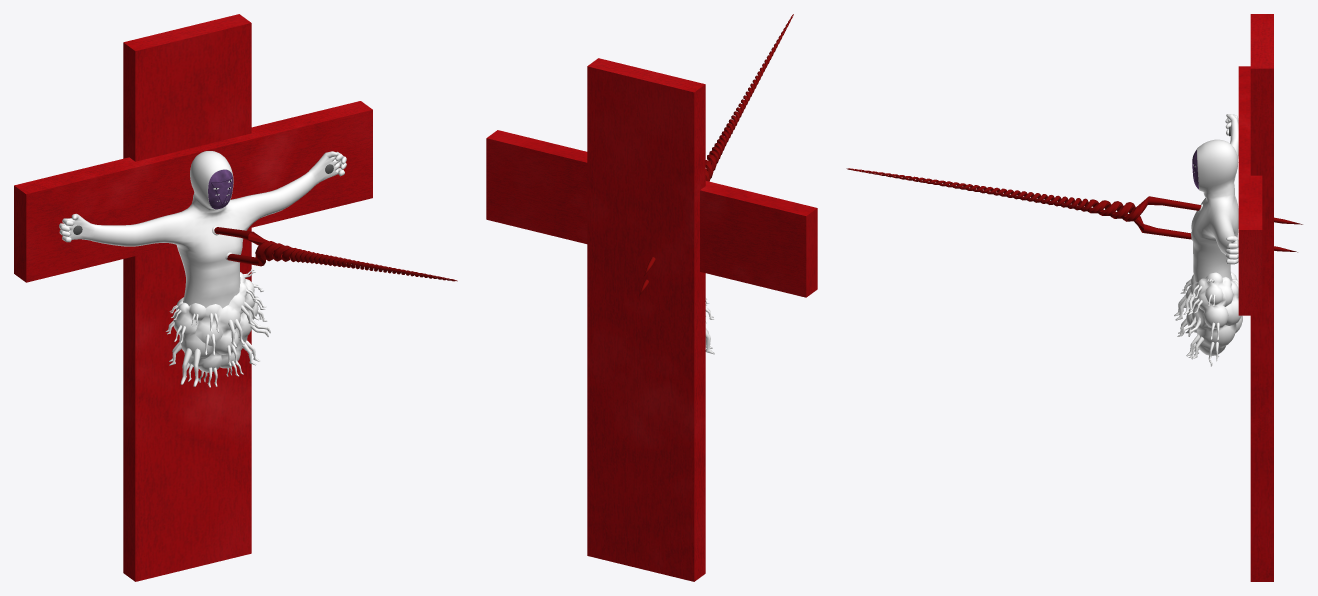
The model's file is lilithevangelion.glb.
The picture shows the model from 3 angles, left to right: view 1: azimuth 30°, elevation 25°; view 2: azimuth 150°, elevation 25°; view 3: azimuth 270°, elevation 25°; orthographic projection. The views are drawn at different scales.
Parts seen in each view (by area): view 1: p_cross_vertical, p_cross_horizontal, p_face1, p_waist, p_legs, p_spear_longinus; view 2: p_cross_vertical, p_cross_horizontal, p_spear_longinus; view 3: p_cross_vertical, p_face1, p_cross_horizontal, p_spear_longinus, p_waist, p_legs.
Part boxes in pixels (<box>): p_cross_vertical: <box>123,14,251,581</box>; p_cross_horizontal: <box>14,101,372,282</box>; p_face1: <box>59,151,346,308</box>; p_waist: <box>173,272,258,372</box>; p_legs: <box>165,269,270,387</box>; p_spear_longinus: <box>214,227,457,281</box>; p_cross_vertical: <box>587,58,705,581</box>; p_cross_horizontal: <box>486,130,817,297</box>; p_spear_longinus: <box>639,14,793,295</box>; p_cross_vertical: <box>1250,14,1273,581</box>; p_face1: <box>1191,114,1238,282</box>; p_cross_horizontal: <box>1238,66,1262,315</box>; p_spear_longinus: <box>846,168,1302,252</box>; p_waist: <box>1185,271,1242,355</box>; p_legs: <box>1174,279,1219,366</box>.
Bounding box in the file's own units: 821 × 1201 × 970.
Materials: 8 (2 with a texture image).
